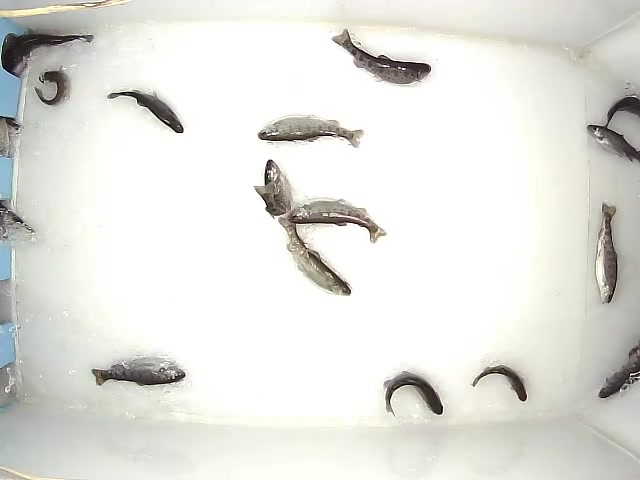fish: (276, 216, 352, 297), (331, 28, 432, 87), (288, 197, 387, 245), (257, 114, 365, 150), (105, 88, 184, 134), (90, 354, 187, 388), (382, 368, 444, 418), (594, 201, 619, 305), (5, 29, 95, 57), (253, 158, 293, 219), (470, 363, 528, 403), (586, 124, 640, 164), (32, 63, 73, 108)
